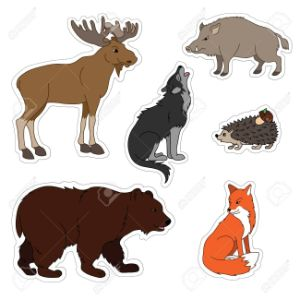bear: (11, 181, 176, 281)
fox: (200, 178, 268, 279)
wolf: (126, 65, 197, 183)
